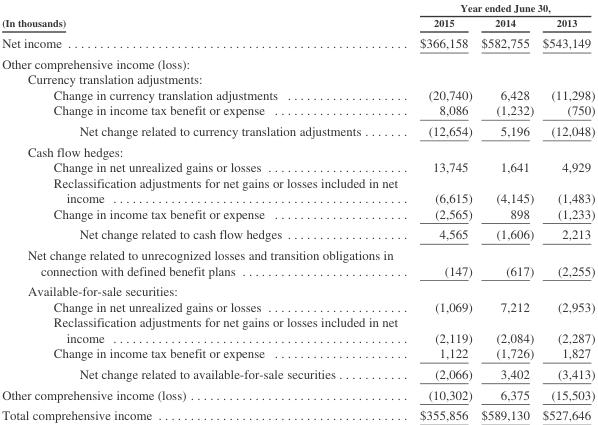table: (1, 1, 594, 422)
table column: (1, 1, 408, 422), (408, 1, 476, 422), (476, 1, 537, 422), (537, 1, 594, 422)
table column header: (1, 1, 594, 32)
table projected row header: (1, 140, 594, 159), (1, 53, 594, 71), (1, 280, 594, 298), (1, 71, 594, 86)
table row: (1, 244, 594, 280), (1, 174, 594, 205), (1, 314, 594, 345), (1, 32, 594, 53), (1, 223, 594, 244), (1, 383, 594, 404), (1, 120, 594, 140), (1, 363, 594, 383), (1, 140, 594, 159), (1, 53, 594, 71), (1, 102, 594, 120), (1, 205, 594, 223), (1, 280, 594, 298), (1, 345, 594, 363), (1, 404, 594, 422), (1, 15, 594, 32), (1, 86, 594, 102), (1, 298, 594, 314), (1, 71, 594, 86), (1, 159, 594, 174), (1, 1, 594, 15)
table spanning cell: (1, 1, 408, 32), (408, 1, 594, 15)
